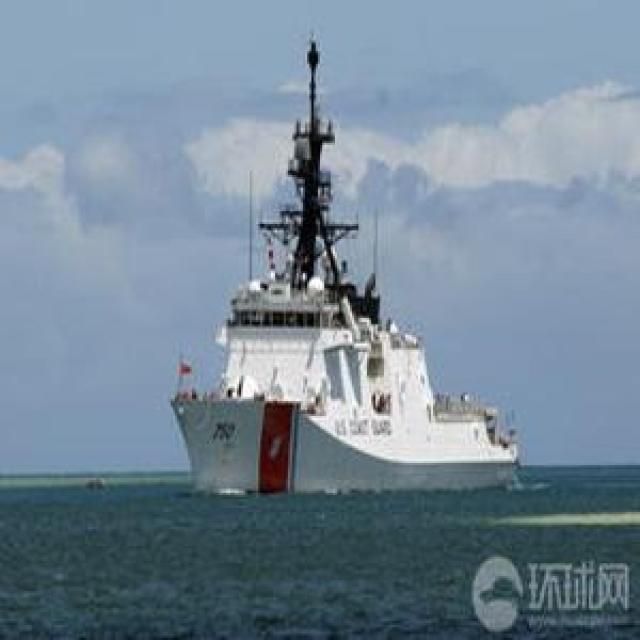navalvessels: (163, 23, 538, 496)
